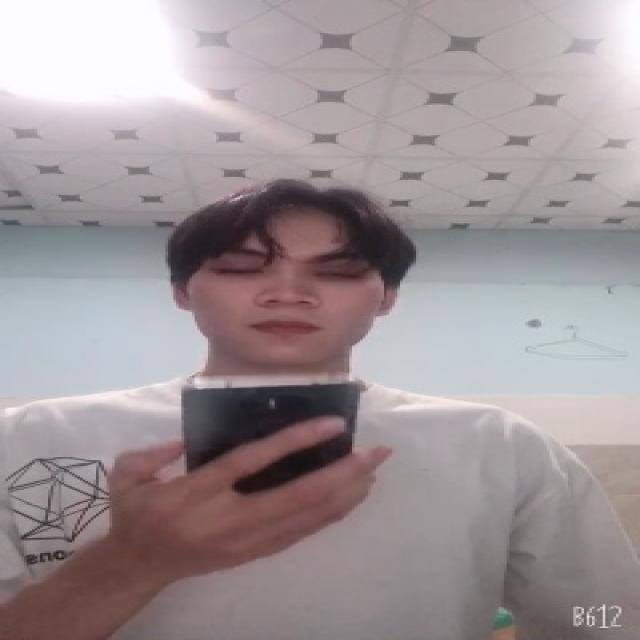Phone: (176, 371, 362, 499)
